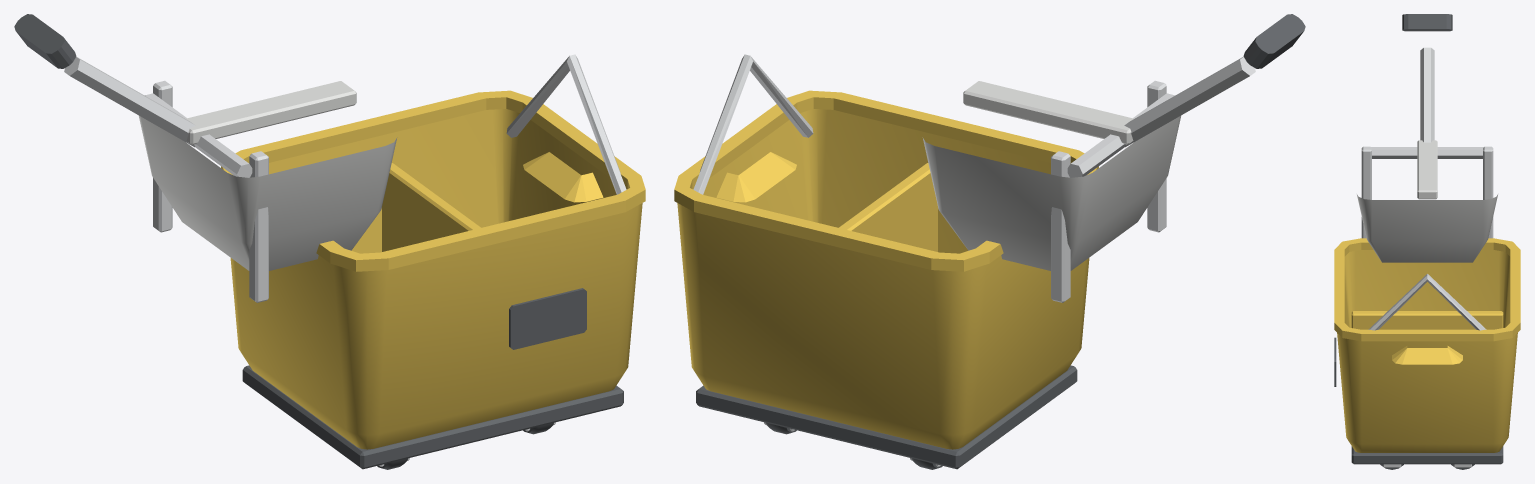
The model's file is laundrette-and-cleaning-mop-bucket-wringer-4591a1bf__25567.glb.
The picture shows the model from 3 angles, left to right: view 1: azimuth 30°, elevation 25°; view 2: azimuth 150°, elevation 25°; view 3: azimuth 270°, elevation 25°; orthographic projection. The views are drawn at different scales.
Parts seen in each view (by area): view 1: mop-bucket-wringer; view 2: mop-bucket-wringer; view 3: mop-bucket-wringer.
Boxes of the visible parts, left/top/right/bottom form: mop-bucket-wringer: left=14, top=14, right=645, bottom=469; mop-bucket-wringer: left=674, top=14, right=1305, bottom=469; mop-bucket-wringer: left=1334, top=14, right=1520, bottom=469.
Bounding box in the file's own units: 0.8393 × 0.6832 × 0.368.
